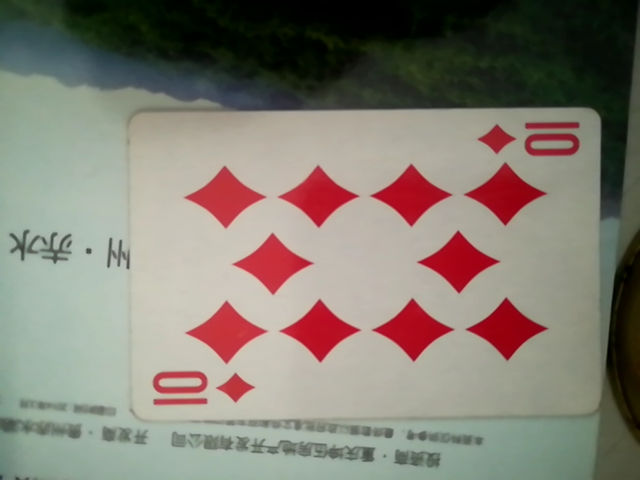fk 10: (119, 100, 614, 422)
